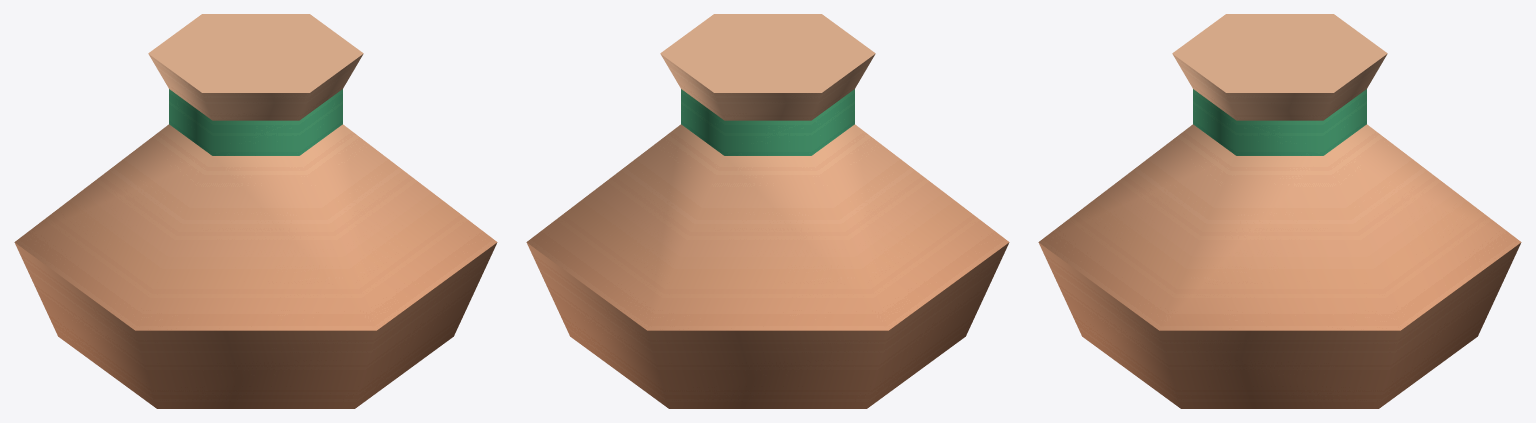
File: food-dim-sum.glb
The picture shows the model from 3 angles, left to right: view 1: azimuth 30°, elevation 25°; view 2: azimuth 150°, elevation 25°; view 3: azimuth 270°, elevation 25°; orthographic projection.
Parts seen in each view (by area): view 1: dim-sum; view 2: dim-sum; view 3: dim-sum.
Part boxes in pixels (x1,y1,x2,y2): dim-sum: [14, 14, 497, 408]; dim-sum: [526, 14, 1009, 408]; dim-sum: [1038, 14, 1521, 408].
Size of the model in its own units: 0.1607 by 0.12 by 0.1856.
Materials: 1 (1 with a texture image).
